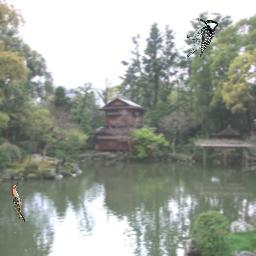Woodpecker: (187, 18, 218, 58), (12, 182, 25, 222)
